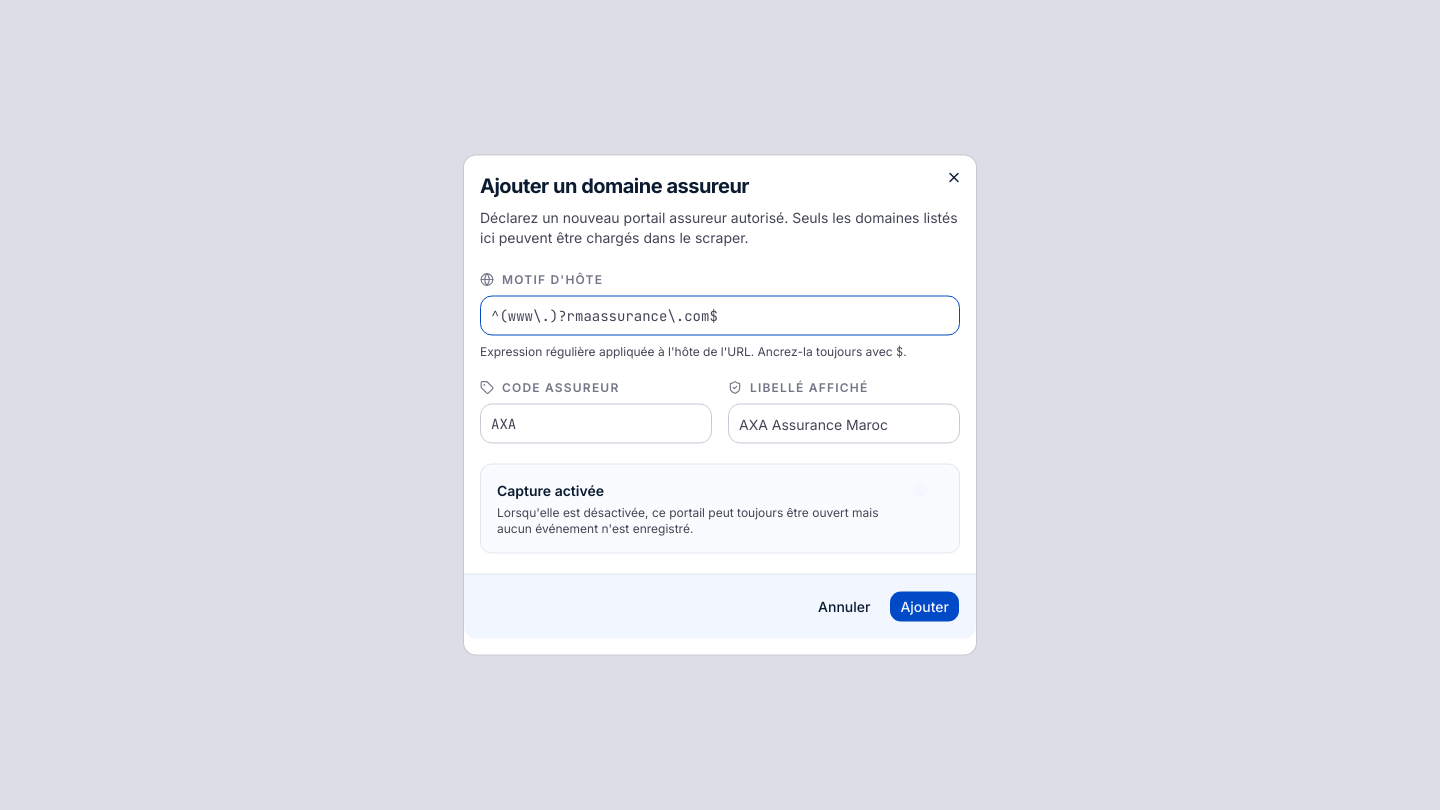
Test: InsurerDomainForm — F5 regex validation › rejects a nested-quantifier pattern (ReDoS `^(a+)+$`)
Note: The canonical ReDoS shape. `isSafeRegexSource` must flag this.
Type "^(a+)+$" into the field with placeholder "^(www\\.)?rmaassurance\\.com$". click: (720, 316)
box: [480,296,960,336]
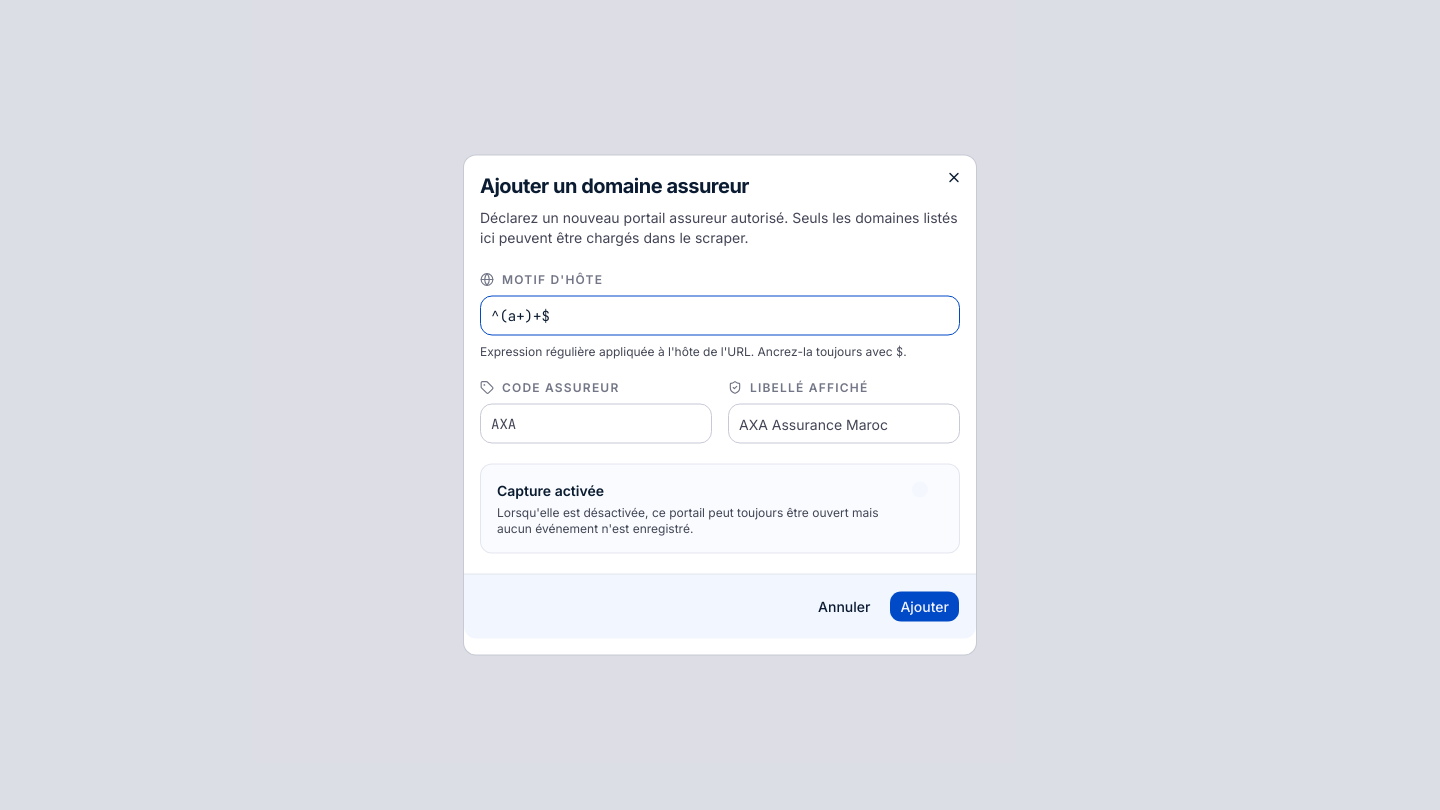
Type "BADSHAPE" into the field with placeholder "AXA". click: (596, 424)
box: [480,404,712,444]
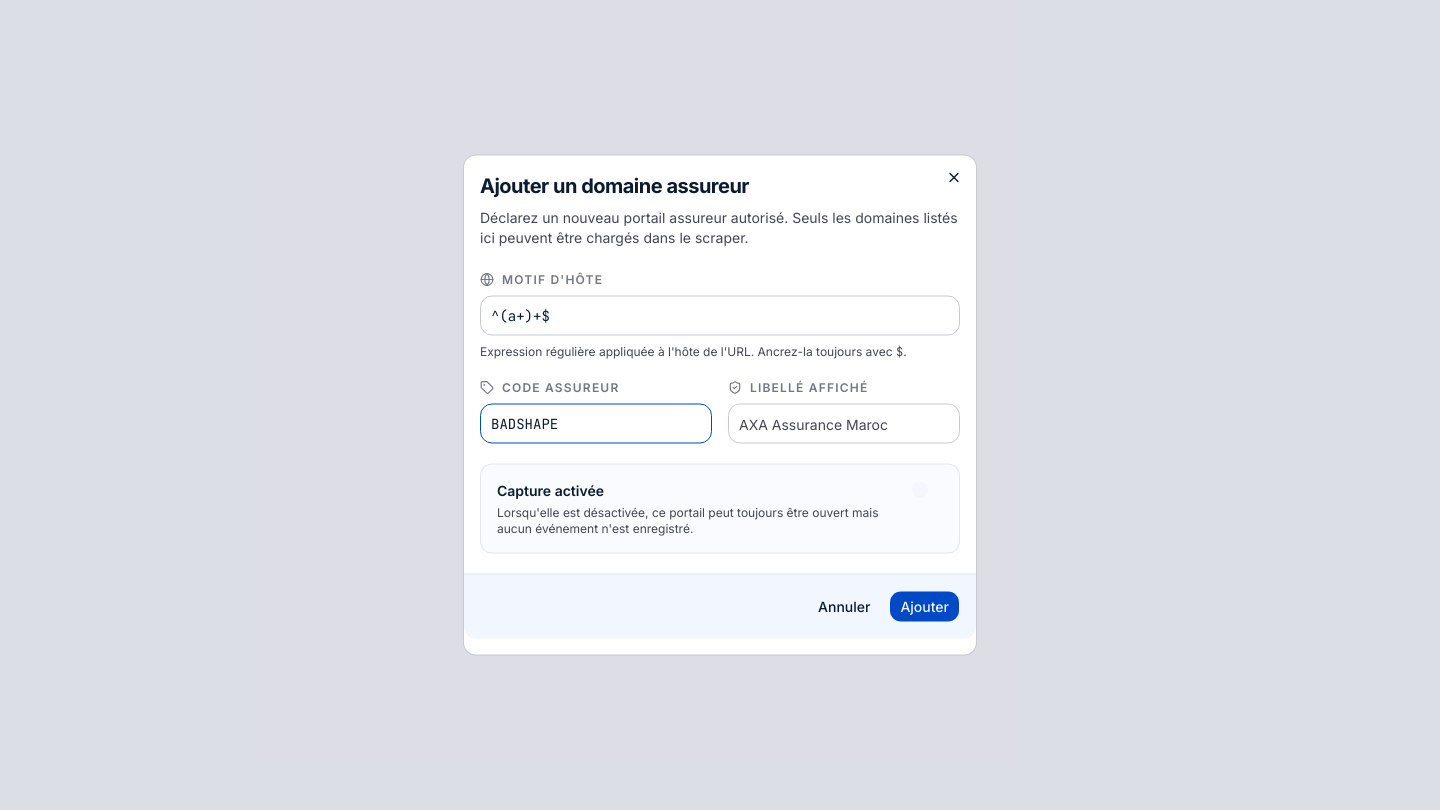
Type "Bad shape" into the field with placeholder "AXA Assurance Maroc". click: (844, 424)
box: [728,404,960,444]
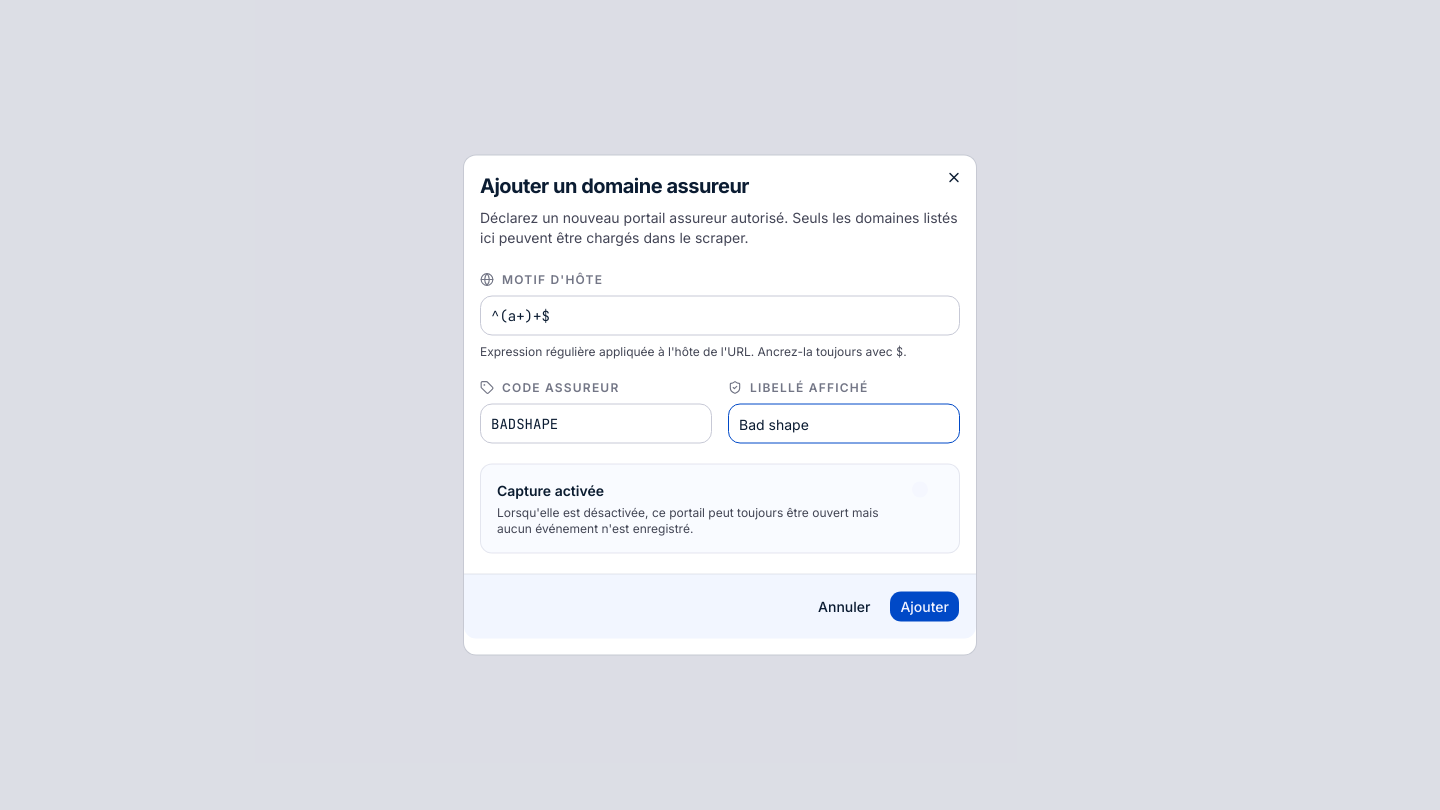
Click the button "Ajouter". click: (925, 606)
box: [889,590,960,622]
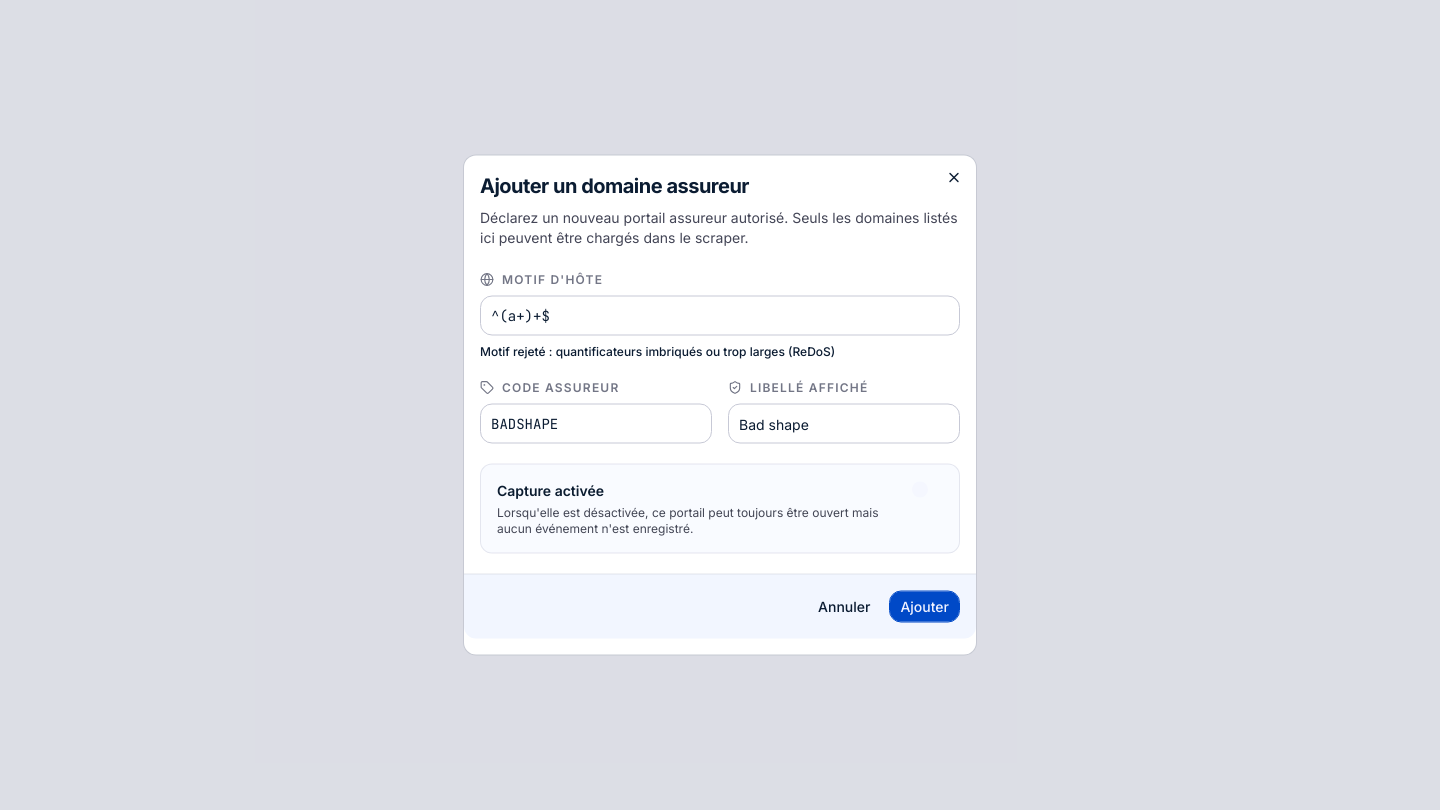
Check: the text "quantificateurs imbriqués ou trop larges" is shown, box [480,344,835,358]
